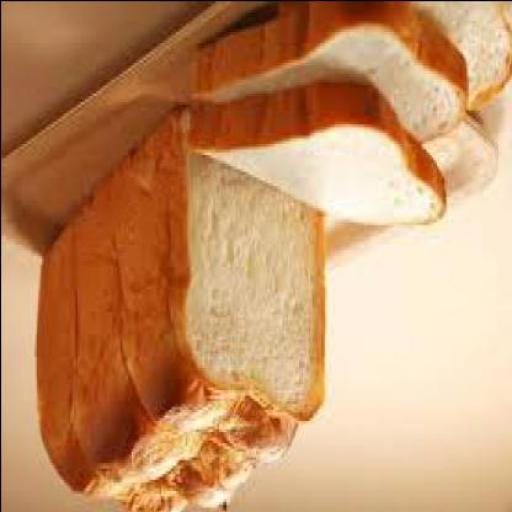biodegradable: (34, 106, 330, 511), (188, 81, 447, 233), (197, 2, 468, 146), (404, 2, 510, 112)
